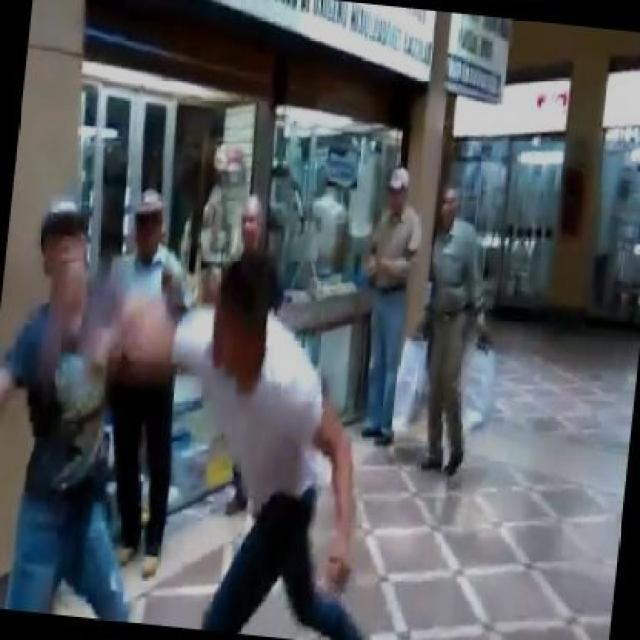fight: (2, 209, 373, 638)
non-fight: (62, 186, 218, 580), (337, 158, 437, 448)
